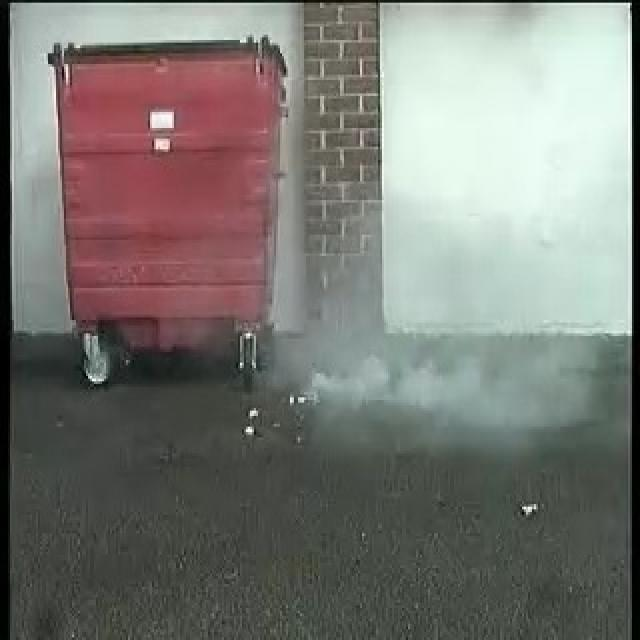smoke: (272, 239, 436, 436)
